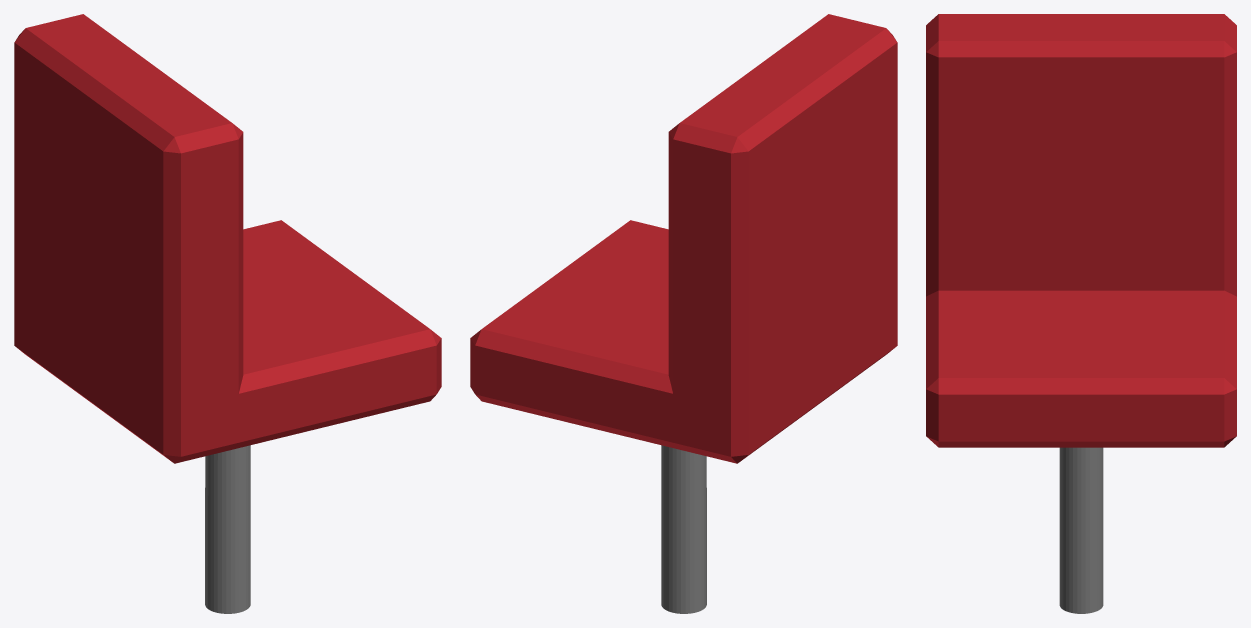
Rendered from Chair.fbx.
3 renders of one model, left to right at view 1: azimuth 30°, elevation 25°; view 2: azimuth 150°, elevation 25°; view 3: azimuth 270°, elevation 25°, orthographic. The views are drawn at different scales.
Parts seen in each view (by area): view 1: Cube, Cylinder; view 2: Cube, Cylinder; view 3: Cube, Cylinder.
Boxes of the visible parts, left/top/right/bottom form: Cube: left=14, top=14, right=441, bottom=463; Cylinder: left=205, top=445, right=250, bottom=613; Cube: left=470, top=14, right=897, bottom=463; Cylinder: left=661, top=445, right=706, bottom=613; Cube: left=926, top=14, right=1236, bottom=447; Cylinder: left=1059, top=447, right=1103, bottom=613.
Bounding box in the file's own units: 231 × 440 × 233.
